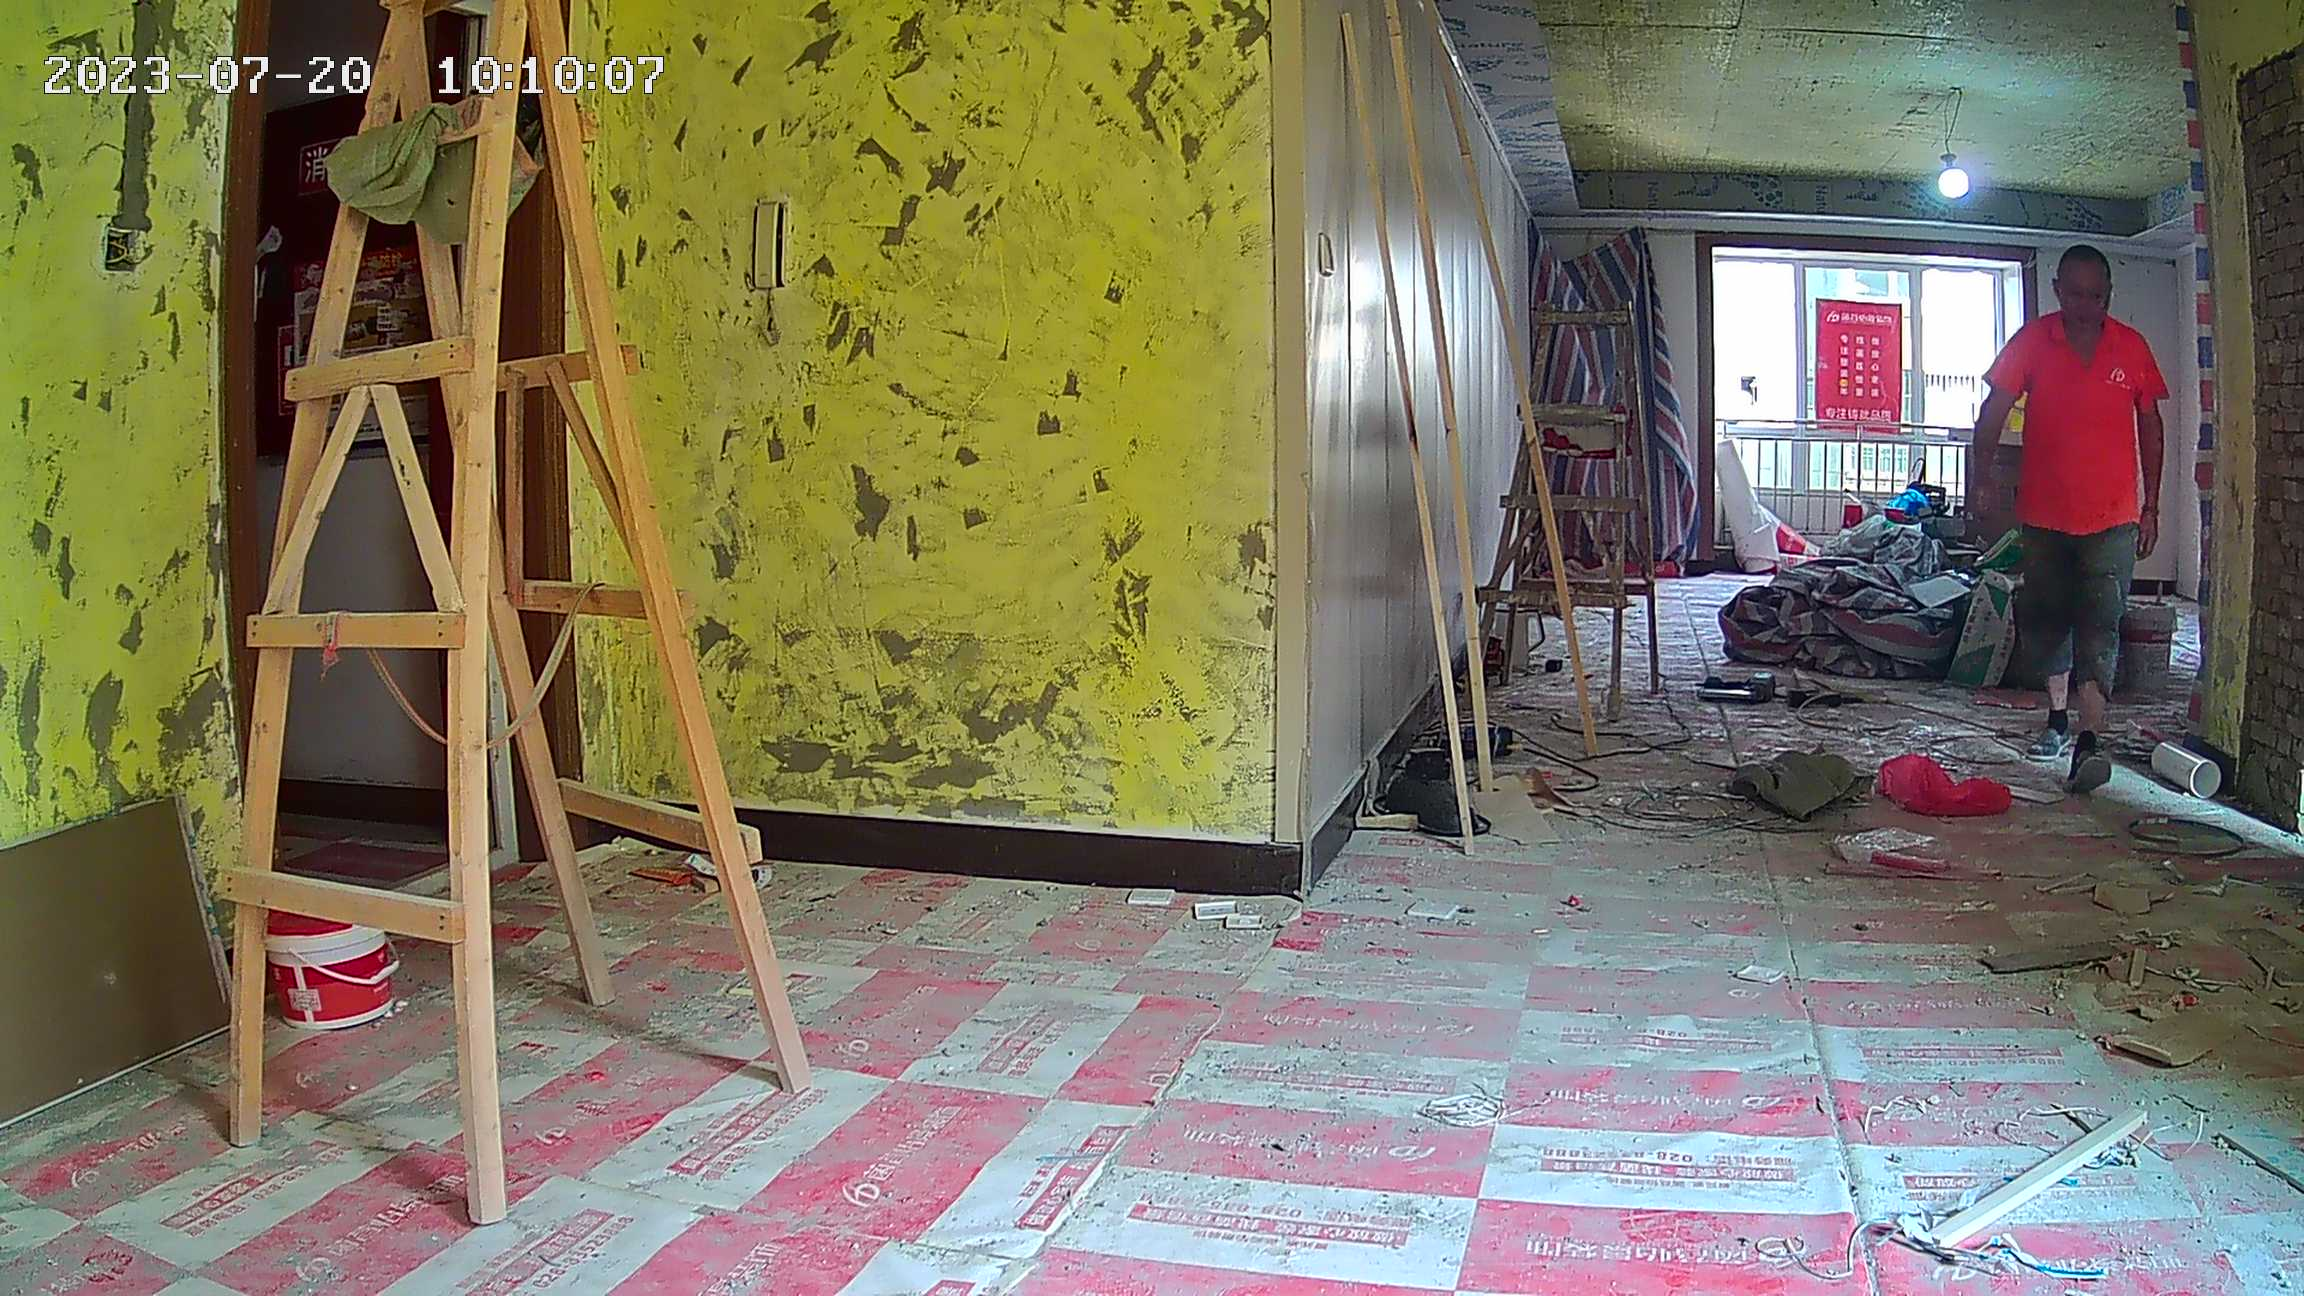people: (1974, 247, 2178, 797)
window: (1709, 239, 2022, 527)
